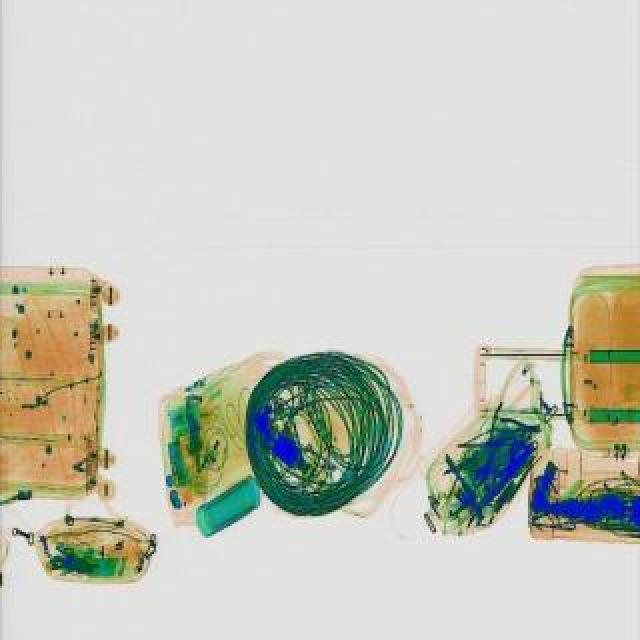wrench: (492, 416, 540, 436)
